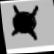not correct: (6, 2, 45, 43)
